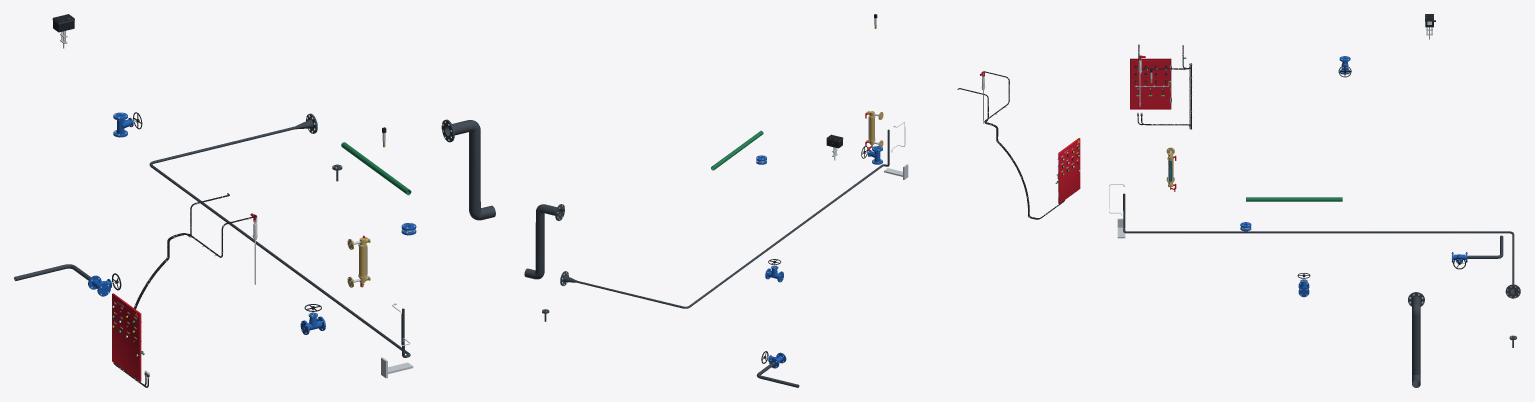
File: s4000-7-DmN2URKI.glb
The picture shows the model from 3 angles, left to right: view 1: azimuth 30°, elevation 25°; view 2: azimuth 150°, elevation 25°; view 3: azimuth 270°, elevation 25°; orthographic projection. The views are drawn at different scales.
Visible parts, largest first — view 1: cabinet_door / cabinet_door_5.npz, bdv_water_drain / dark, tds_common / dark, tds_to_fv / dark, sight_glasses_2 / sight_glasses_2_0.npz, pump_delivery / green, wiring_lp200 / black, drain_isolation_2 / drain_isolation_2_0.npz; view 2: cabinet_door / cabinet_door_5.npz, bdv_water_drain / dark, tds_common / dark, tds_to_fv / dark; view 3: cabinet_door / cabinet_door_5.npz, tds_common / dark, bdv_water_drain / dark, tds_to_fv / dark, pump_delivery / green.
Part boxes in pixels (x1,y1,x2,y2): cabinet_door / cabinet_door_5.npz: (112, 293, 141, 381); bdv_water_drain / dark: (441, 119, 495, 220); tds_common / dark: (183, 189, 410, 357); tds_to_fv / dark: (149, 113, 317, 190); sight_glasses_2 / sight_glasses_2_0.npz: (347, 235, 370, 287); pump_delivery / green: (341, 142, 411, 195); wiring_lp200 / black: (115, 214, 256, 387); drain_isolation_2 / drain_isolation_2_0.npz: (88, 273, 121, 296); cabinet_door / cabinet_door_5.npz: (1057, 138, 1080, 203); bdv_water_drain / dark: (524, 204, 564, 279); tds_common / dark: (714, 129, 889, 288); tds_to_fv / dark: (560, 271, 715, 308); cabinet_door / cabinet_door_5.npz: (1130, 58, 1171, 109); tds_common / dark: (1123, 193, 1458, 233); bdv_water_drain / dark: (1408, 292, 1424, 387); tds_to_fv / dark: (1459, 231, 1520, 298); pump_delivery / green: (1246, 197, 1342, 201).
Size of the model in its own units: 6.07 by 3.22 by 5.31.
